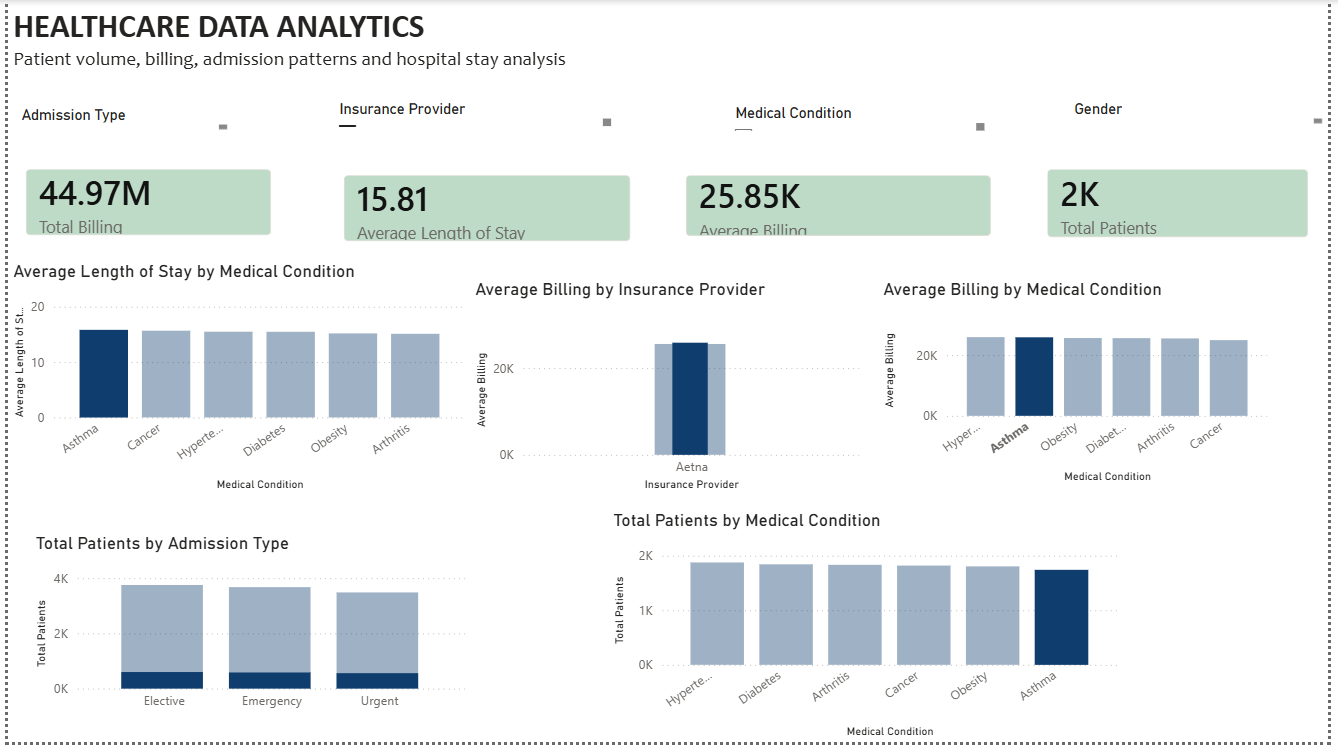

What the dashboard file says about the page in this screenshot:
{"tool":"powerbi","page":{"name":"Page 1","canvas":[1280,720],"ordinal":0},"visuals":[{"type":"cardVisual","fields":{"Data":["healthcare_dataset.Total Patients","healthcare_dataset.Total Patients"]},"box":[991.7,147,287.8,100.1],"z":0},{"type":"cardVisual","fields":{"Data":["healthcare_dataset.Average Length of Stay"]},"box":[308.1,153.3,312.8,98.5],"z":1000},{"type":"cardVisual","fields":{"Data":["healthcare_dataset.Total Billing"]},"box":[0,147,272.2,98.5],"z":2000},{"type":"cardVisual","fields":{"Data":["healthcare_dataset.Average Billing"]},"box":[639.7,153.3,330,93.8],"z":3000},{"type":"clusteredColumnChart","fields":{"Category":["healthcare_dataset.Medical Condition"],"Y":["healthcare_dataset.Total Patients"]},"box":[581.9,494.3,499,225.2],"z":4000},{"type":"clusteredColumnChart","fields":{"Category":["healthcare_dataset.Medical Condition"],"Y":["healthcare_dataset.Average Billing"]},"box":[844.6,270.6,383.2,201.8],"z":5000},{"type":"clusteredColumnChart","fields":{"Category":["healthcare_dataset.Admission Type"],"Y":["healthcare_dataset.Total Patients"]},"box":[21.9,516.2,427,181.4],"z":6000},{"type":"clusteredColumnChart","fields":{"Y":["healthcare_dataset.Average Billing"],"Category":["healthcare_dataset.Insurance Provider"]},"box":[448.9,270.6,383.2,209.6],"z":7000},{"type":"clusteredColumnChart","fields":{"Category":["healthcare_dataset.Medical Condition"],"Y":["healthcare_dataset.Average Length of Stay"]},"box":[0,253.4,448.9,226.8],"z":8000},{"type":"textbox","box":[0,0,581.9,92.3],"z":9000},{"type":"slicer","fields":{"Values":["healthcare_dataset.Admission Type"]},"box":[0,97,217.4,32.8],"z":10000},{"type":"slicer","fields":{"Values":["healthcare_dataset.Medical Condition"]},"box":[692.9,95.4,259.6,36],"z":11000},{"type":"slicer","fields":{"Values":["healthcare_dataset.Insurance Provider"]},"box":[308.1,92.3,281.5,36],"z":12000},{"type":"slicer","fields":{"Values":["healthcare_dataset.Gender"]},"box":[1021.4,92.3,258.1,32.8],"z":13000}]}

Visuals, with their boxes in screenshot pixels (x1, y1, x2, y2), scaled from the page's 1280x720 canvas onto the 1338x750 screenshot:
cardVisual - healthcare_dataset.Total Patients x healthcare_dataset.Total Patients: Rect(1037, 153, 1337, 257)
cardVisual - healthcare_dataset.Average Length of Stay: Rect(322, 160, 649, 262)
cardVisual - healthcare_dataset.Total Billing: Rect(0, 153, 285, 256)
cardVisual - healthcare_dataset.Average Billing: Rect(669, 160, 1014, 257)
clusteredColumnChart - healthcare_dataset.Medical Condition x healthcare_dataset.Total Patients: Rect(608, 515, 1130, 749)
clusteredColumnChart - healthcare_dataset.Medical Condition x healthcare_dataset.Average Billing: Rect(883, 282, 1283, 492)
clusteredColumnChart - healthcare_dataset.Admission Type x healthcare_dataset.Total Patients: Rect(23, 538, 469, 727)
clusteredColumnChart - healthcare_dataset.Average Billing x healthcare_dataset.Insurance Provider: Rect(469, 282, 870, 500)
clusteredColumnChart - healthcare_dataset.Medical Condition x healthcare_dataset.Average Length of Stay: Rect(0, 264, 469, 500)
textbox: Rect(0, 0, 608, 96)
slicer - healthcare_dataset.Admission Type: Rect(0, 101, 227, 135)
slicer - healthcare_dataset.Medical Condition: Rect(724, 99, 996, 137)
slicer - healthcare_dataset.Insurance Provider: Rect(322, 96, 616, 134)
slicer - healthcare_dataset.Gender: Rect(1068, 96, 1337, 130)
